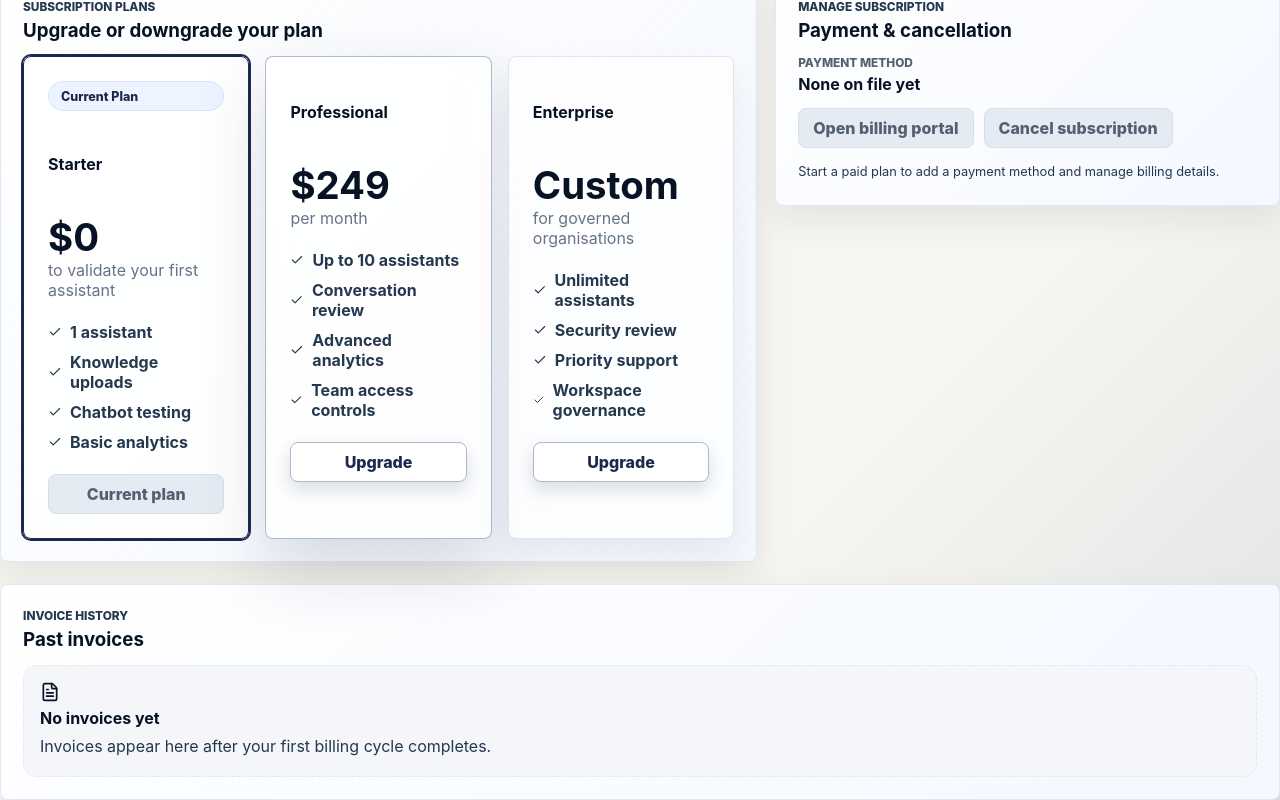
Test: BillingDashboardClient › shows an error message when checkout cannot be started
The width and height of the screenshot is (1280, 800).
(page scrolled)
What coordinates should you click on to do the following:
click the button "Upgrade" below "Team access controls"
I would click on:
 (379, 462)
Its box is left=290, top=442, right=467, bottom=482.
(page scrolled)
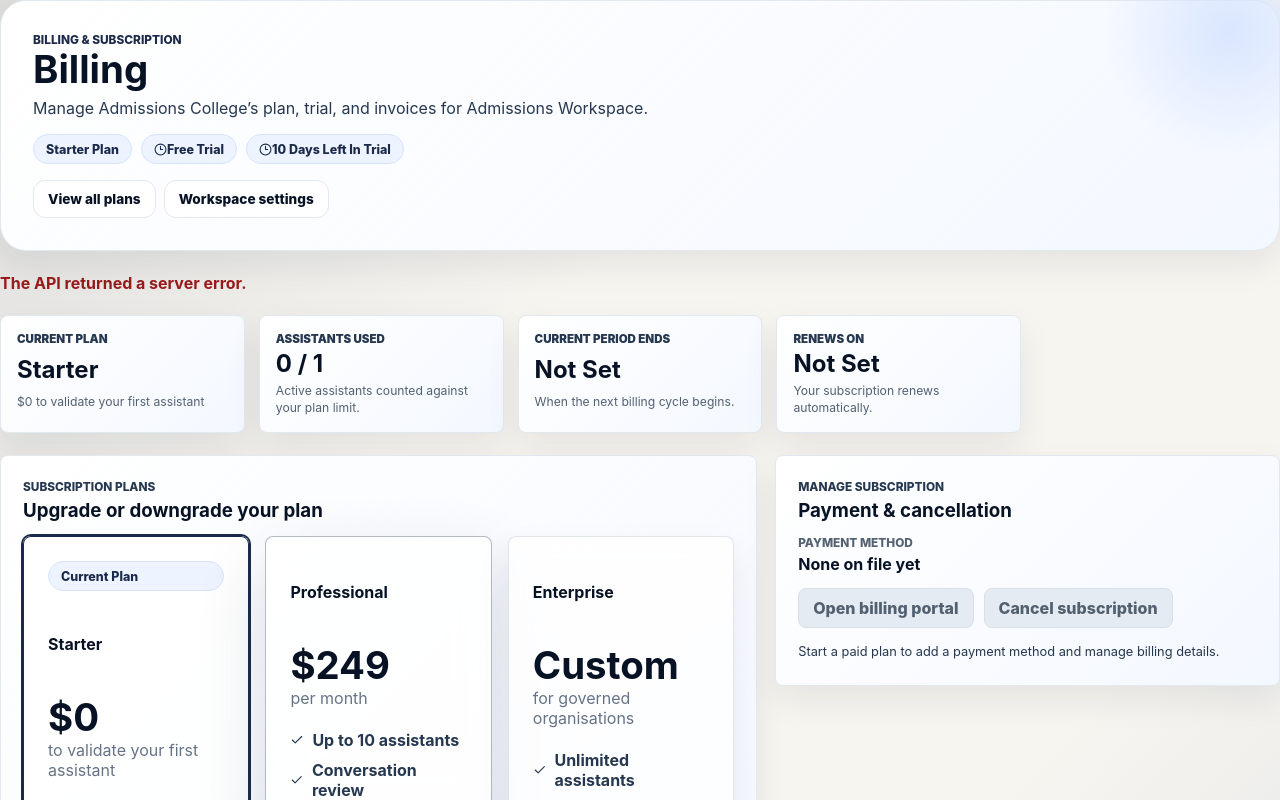
Expected: the message "The API returned a server error." is shown, left=0, top=273, right=246, bottom=293
